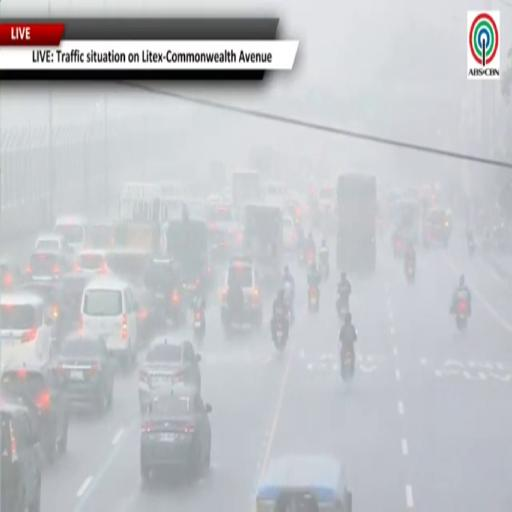car: (141, 386, 211, 484), (0, 364, 69, 462), (80, 277, 139, 366), (0, 397, 41, 511), (56, 334, 115, 411), (139, 338, 200, 410), (0, 292, 55, 363), (18, 282, 70, 346), (221, 258, 263, 330), (144, 258, 186, 325), (60, 272, 93, 328), (26, 249, 72, 281), (54, 216, 88, 253), (74, 249, 109, 277), (87, 220, 115, 249), (35, 233, 72, 253), (0, 259, 21, 291), (283, 216, 297, 250)
motorcycle: (340, 345, 354, 381), (274, 320, 287, 351), (193, 309, 205, 342), (456, 300, 468, 331), (336, 294, 348, 319), (318, 257, 330, 281), (308, 286, 319, 312), (285, 296, 294, 326), (405, 262, 415, 284), (306, 249, 315, 267), (468, 240, 476, 257)
truck: (337, 173, 377, 274), (243, 204, 283, 283), (231, 171, 261, 211)
